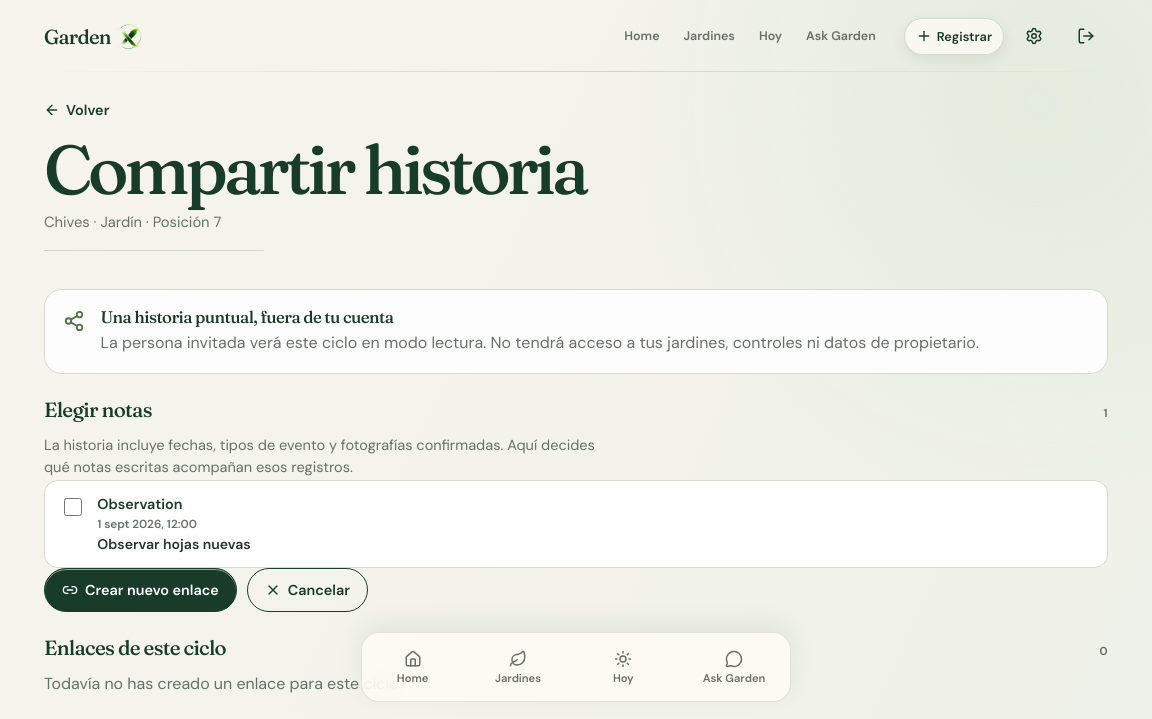
Guest Plant Story › creates a read-only link with only the selected note
Click the checkbox named "Incluir nota: Observar hojas nuevas".
click(73, 507)  # box 64,498 -> 82,516
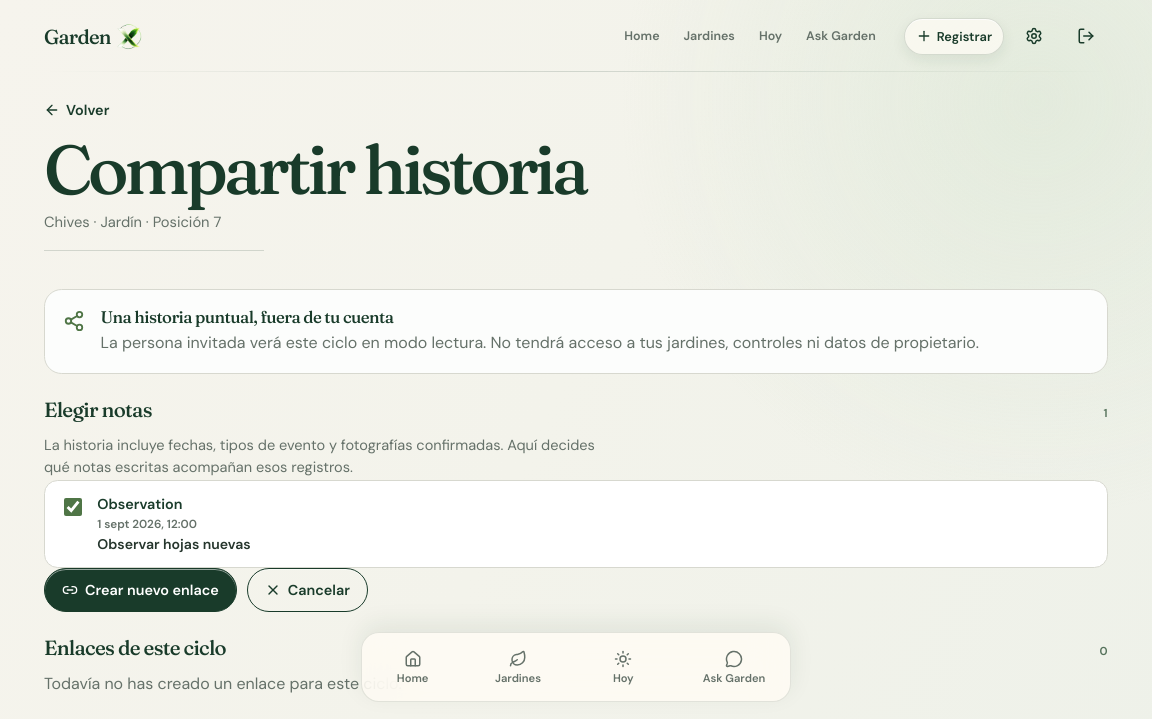
Click the button "Crear nuevo enlace".
click(140, 590)  # box 44,568 -> 237,612
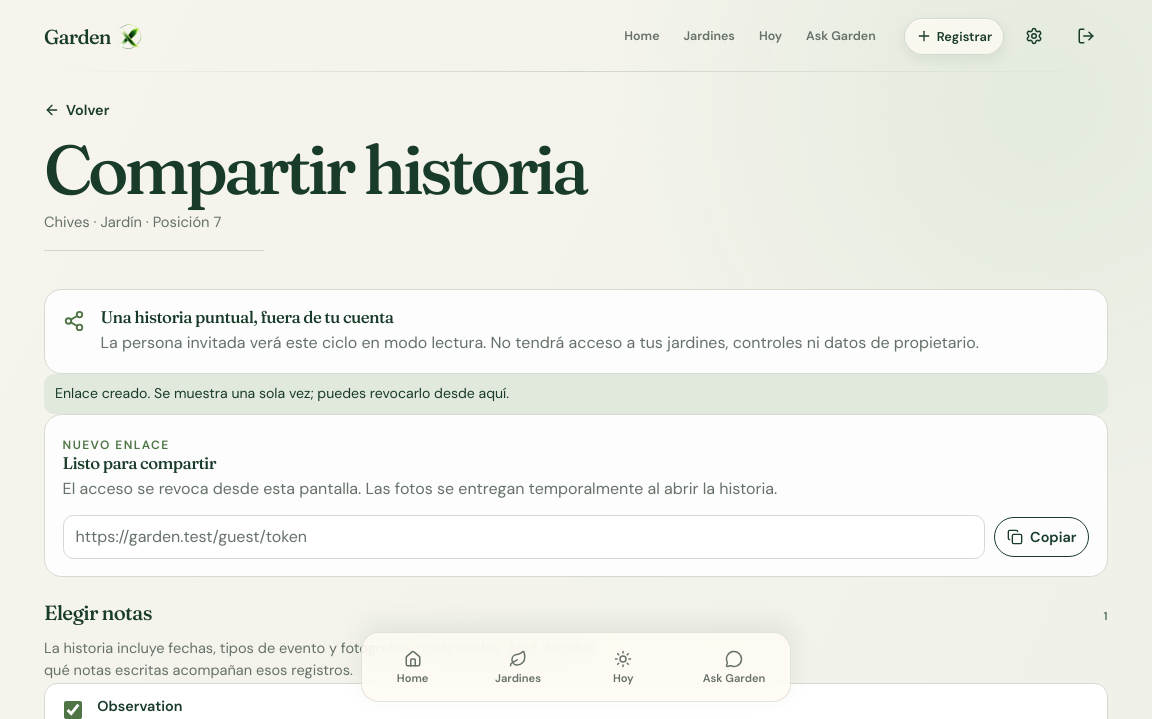
Expected: the field showing "https://garden.test/guest/token" is shown, 63,515 -> 985,559
